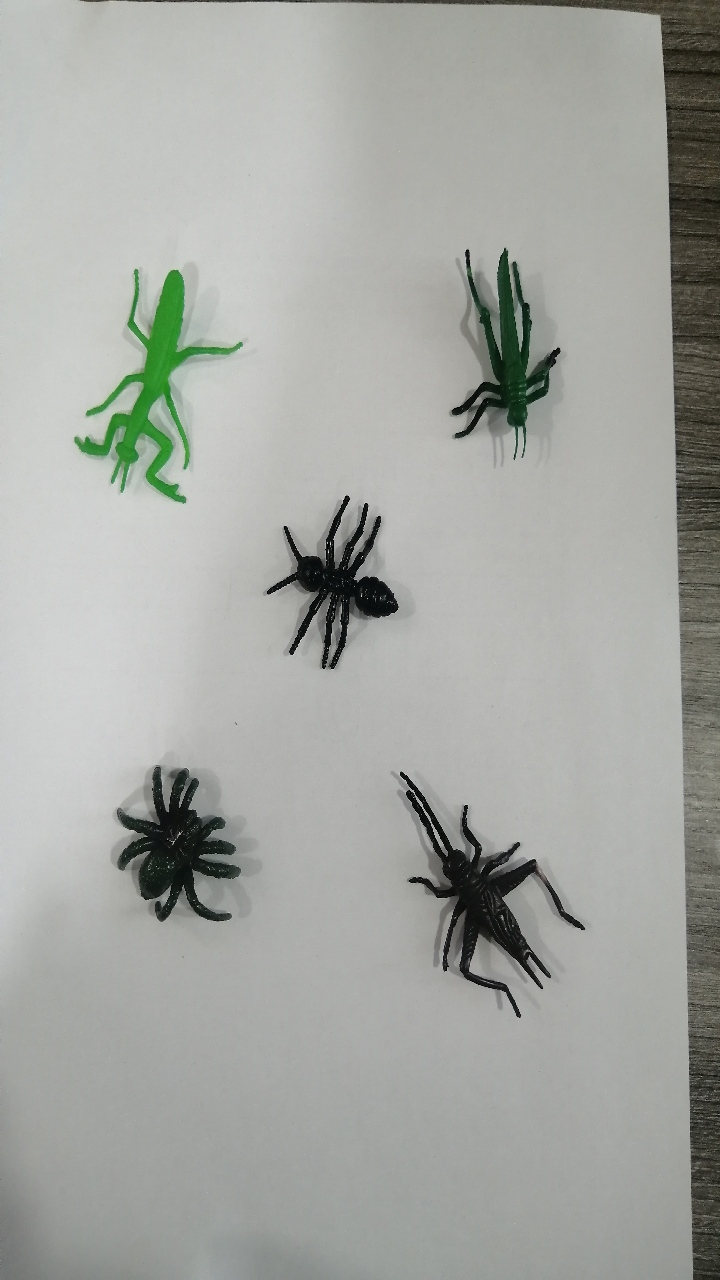intruso: (374, 739, 612, 1049), (43, 243, 231, 526), (75, 737, 277, 962), (423, 209, 580, 489), (241, 462, 431, 691)
